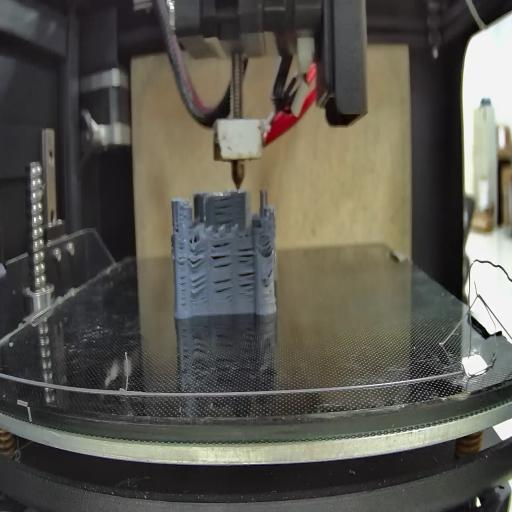cracks: (210, 239, 233, 270), (176, 246, 187, 310), (211, 200, 234, 224), (238, 270, 255, 298), (213, 279, 233, 302), (187, 248, 206, 269), (236, 244, 255, 265), (189, 276, 207, 297), (259, 240, 275, 256), (266, 268, 276, 281), (176, 220, 182, 234)
